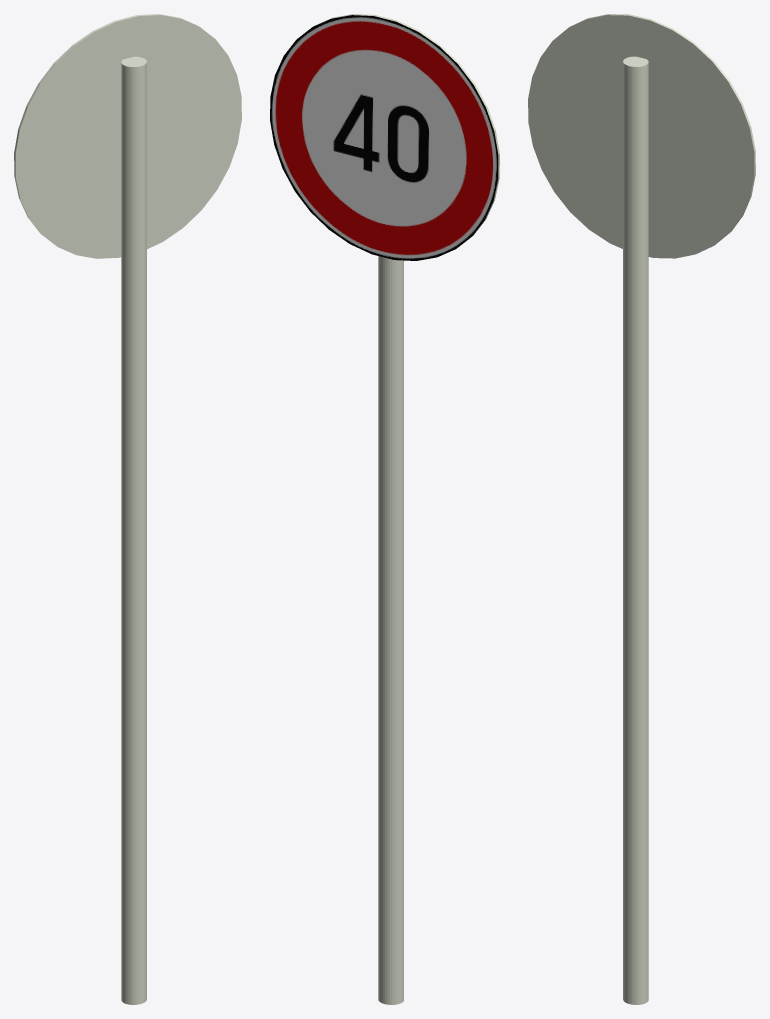
3 views of the same model, side by side, from view 1: azimuth 30°, elevation 25°; view 2: azimuth 150°, elevation 25°; view 3: azimuth 330°, elevation 25° (orthographic).
Parts seen in each view (by area): view 1: Circle.001, 40_tube; view 2: Circle.001, 40_tube; view 3: Circle.001, 40_tube.
Boxes of the visible parts, x1=… form: Circle.001: x1=14, y1=14, x2=241, y2=258; 40_tube: x1=121, y1=56, x2=146, y2=1004; Circle.001: x1=270, y1=14, x2=499, y2=260; 40_tube: x1=378, y1=256, x2=403, y2=1004; Circle.001: x1=528, y1=14, x2=755, y2=258; 40_tube: x1=623, y1=56, x2=648, y2=1004.
Size of the model in its own units: 0.4383 by 1.81 by 0.0437.
Materials: 3 (1 with a texture image).
